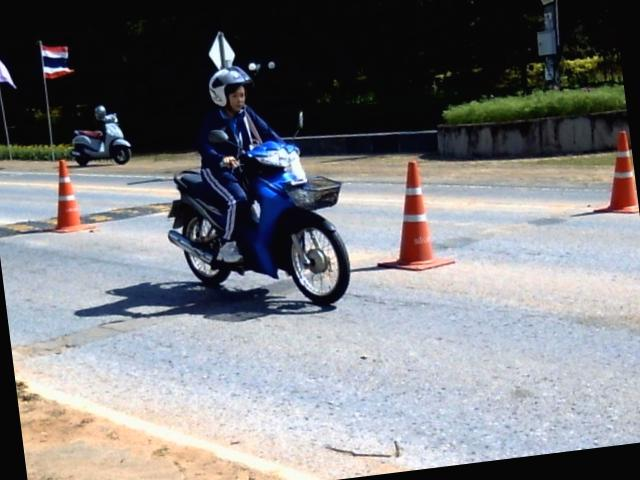helmet: (201, 64, 259, 116), (94, 105, 104, 121)
motor: (168, 142, 349, 304), (71, 114, 130, 165)
person: (197, 67, 284, 261)
